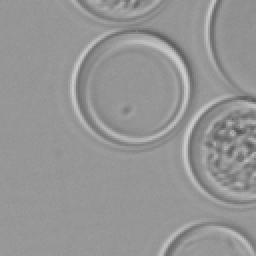picoshell: (70, 30, 190, 146), (182, 98, 254, 204), (204, 0, 254, 96), (158, 222, 254, 254), (70, 0, 162, 22)
